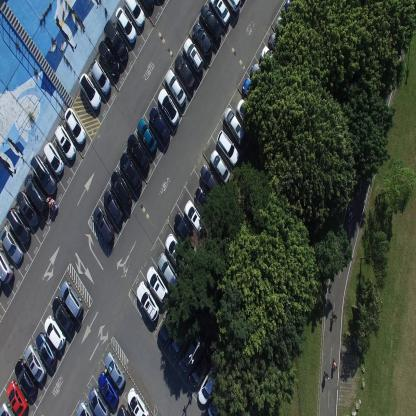car: (30, 153, 57, 197), (103, 18, 128, 62), (6, 206, 31, 246), (145, 264, 169, 305), (23, 173, 47, 214), (119, 150, 142, 192), (136, 280, 159, 322), (126, 132, 150, 172), (178, 334, 202, 374), (51, 293, 74, 334), (14, 358, 37, 399), (223, 105, 245, 147), (78, 72, 102, 110), (60, 279, 84, 317), (110, 168, 132, 209), (93, 205, 115, 246), (164, 233, 187, 272), (64, 106, 87, 145), (0, 225, 23, 264), (216, 129, 240, 166), (16, 190, 40, 227), (164, 68, 186, 108), (156, 87, 178, 127), (98, 39, 121, 77), (54, 123, 77, 161), (199, 4, 222, 42), (148, 106, 170, 145), (156, 252, 178, 291), (24, 344, 46, 383), (197, 368, 220, 405), (115, 6, 137, 44), (104, 351, 126, 389), (6, 379, 29, 415), (90, 58, 112, 95), (173, 53, 194, 91), (136, 117, 157, 155), (182, 36, 203, 74), (98, 370, 119, 408), (44, 314, 66, 350), (157, 308, 177, 347), (103, 187, 124, 224), (43, 141, 65, 176), (36, 331, 56, 369), (173, 212, 194, 248), (194, 184, 216, 218), (192, 22, 212, 57), (210, 149, 230, 184), (200, 164, 221, 197), (183, 199, 204, 232), (167, 326, 188, 358), (207, 386, 230, 415), (88, 386, 110, 416), (268, 32, 289, 63), (188, 356, 209, 387), (251, 62, 271, 94), (260, 43, 280, 75), (275, 14, 296, 44), (242, 77, 263, 107), (208, 0, 230, 28), (127, 387, 149, 415), (124, 0, 145, 27), (284, 0, 304, 27), (0, 245, 14, 283), (236, 98, 254, 127), (77, 398, 93, 416), (223, 0, 241, 15), (137, 0, 155, 14), (0, 401, 15, 415), (117, 404, 131, 415)
